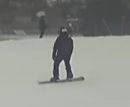snowboarder: (37, 27, 84, 85)
